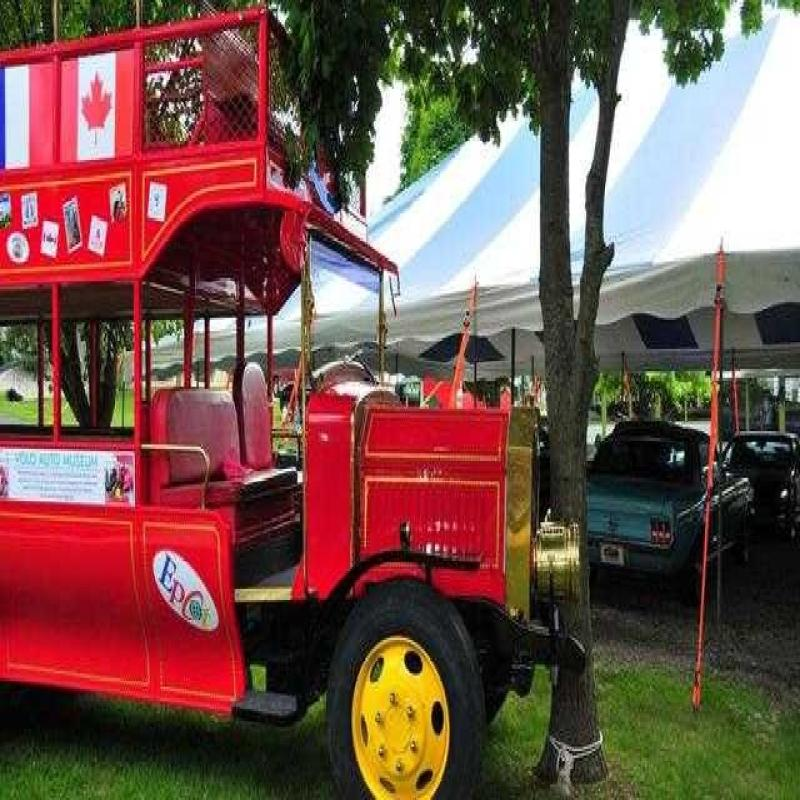bus: (13, 19, 555, 800)
